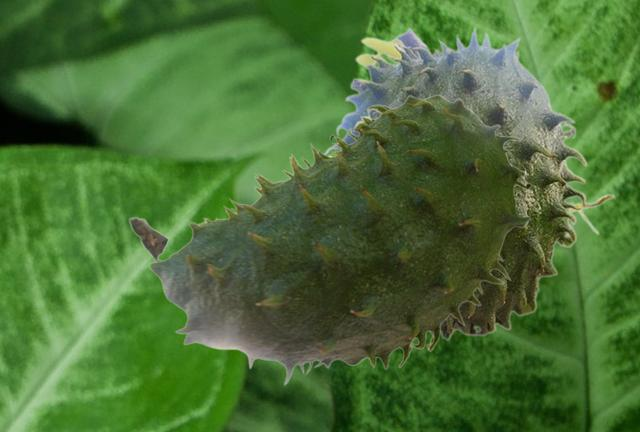guyabano: (128, 94, 531, 385), (323, 24, 615, 341)
